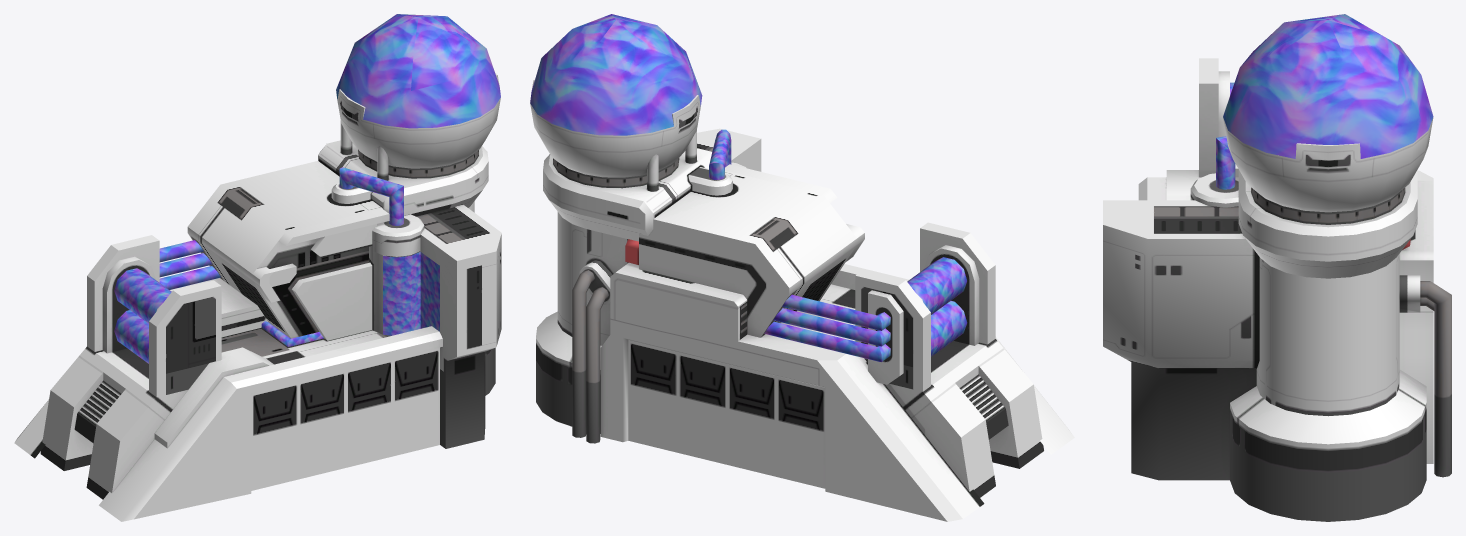
File: chemical-plant.glb
The picture shows the model from 3 angles, left to right: view 1: azimuth 30°, elevation 25°; view 2: azimuth 150°, elevation 25°; view 3: azimuth 270°, elevation 25°; orthographic projection. The views are drawn at different scales.
Parts seen in each view (by area): view 1: chemical-plant; view 2: chemical-plant; view 3: chemical-plant.
Part boxes in pixels (<box>): chemical-plant: <box>14,14,501,521</box>; chemical-plant: <box>530,14,1074,521</box>; chemical-plant: <box>1103,14,1451,521</box>.
Bounding box in the file's own units: 9.19 × 7.27 × 4.97.
4 materials, 2 textured.
